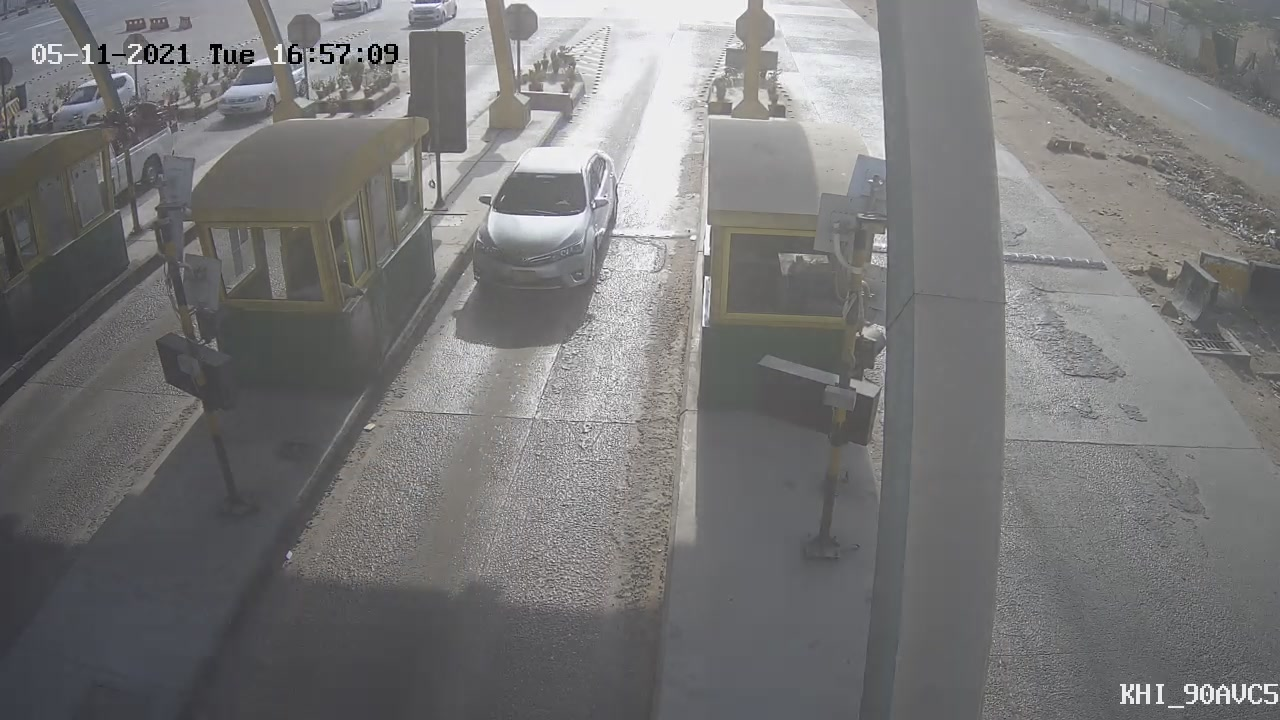F1: (446, 125, 640, 320)
